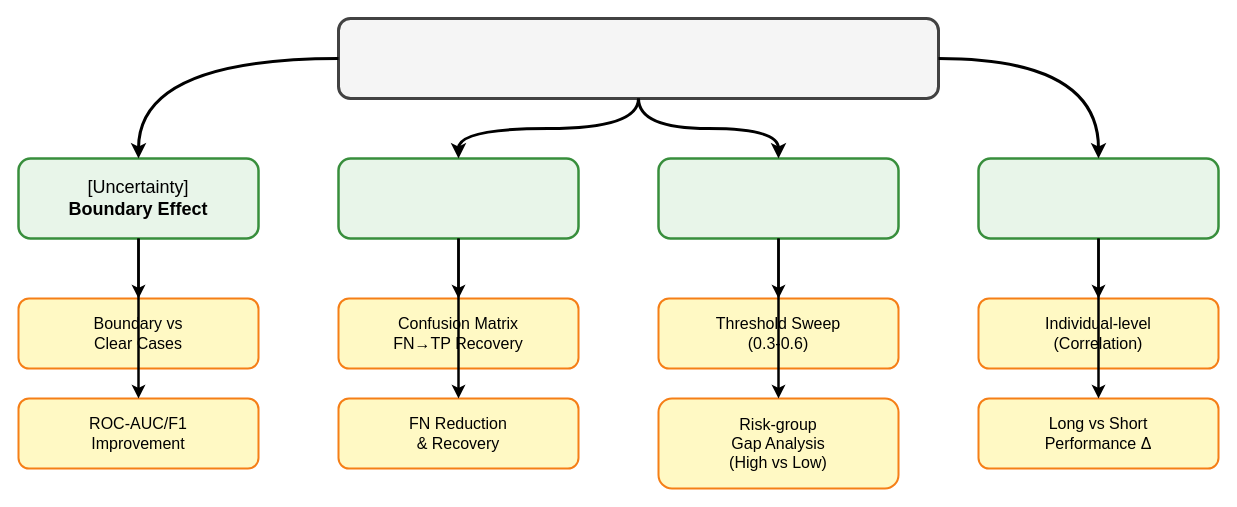
Image size: 1237x507. Some labels were removed from this diagram. The shapes that lost their labels are listed below. From the top down, each one's centre as x and y in pixels, then its label:
At (638,58): "Phase 5: Conditional Text Effect Analysis".
At (458,198): "[Error Case] Confusion Matrix".
At (778,198): "[Threshold] Threshold Sweep".
At (1098,198): "[Text Length] Group-level (Decile)".
